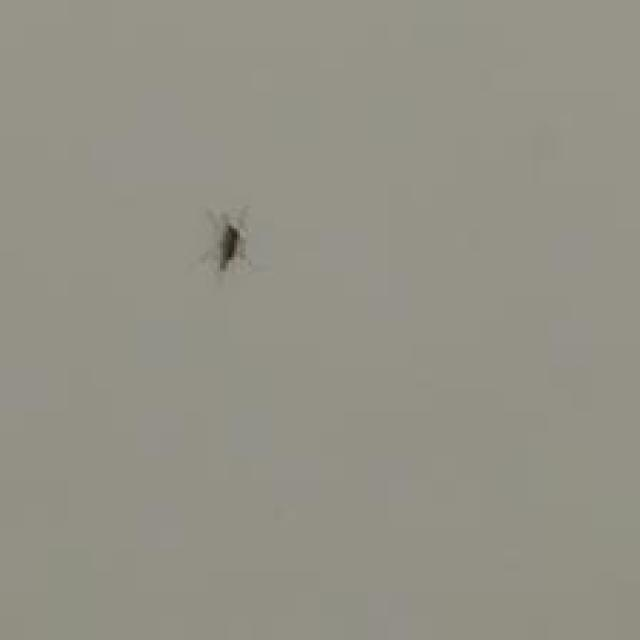Culex: (201, 204, 253, 273)
